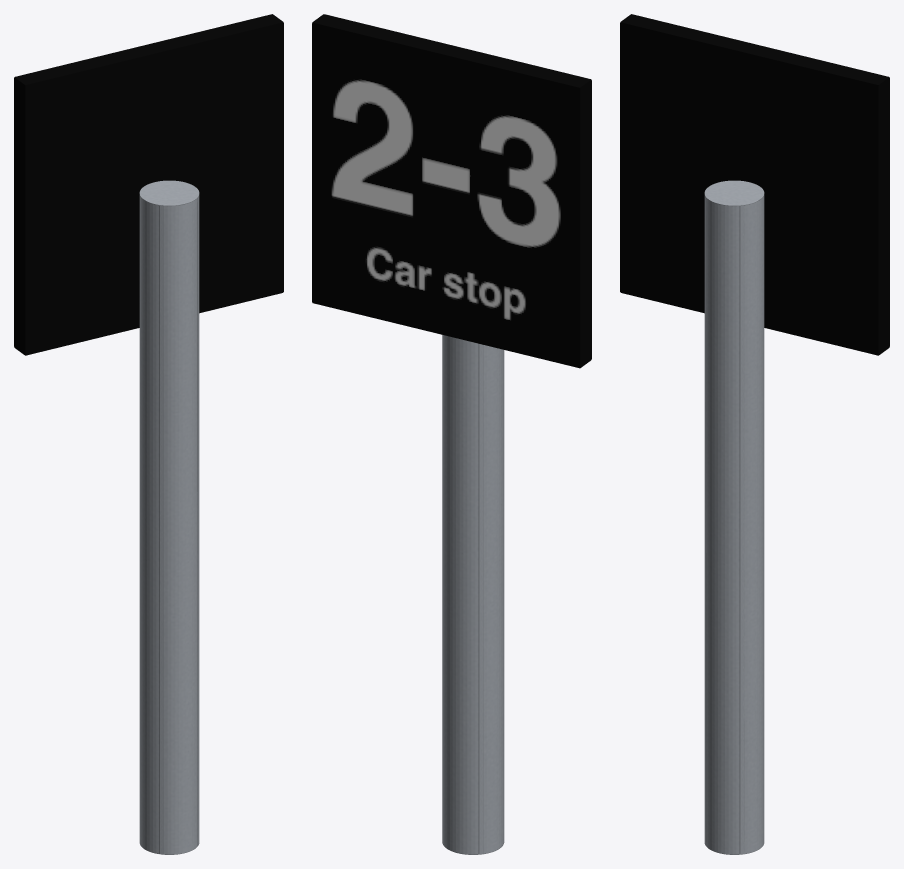
The model's file is 23mark.obj.
3 views of the same model, side by side, from view 1: azimuth 30°, elevation 25°; view 2: azimuth 150°, elevation 25°; view 3: azimuth 330°, elevation 25° (orthographic). The views are drawn at different scales.
Parts seen in each view (by area): view 1: cube, cylinder; view 2: cube, cylinder; view 3: cube, cylinder.
Boxes of the visible parts, bbox=[...] form: cube: bbox=[14, 14, 283, 355]; cylinder: bbox=[139, 180, 199, 854]; cube: bbox=[312, 14, 591, 368]; cylinder: bbox=[442, 335, 504, 854]; cube: bbox=[620, 14, 889, 355]; cylinder: bbox=[704, 180, 764, 854].
Size of the model in its own units: 0.625 by 1.8 by 0.1719.
1 material, 1 textured.
